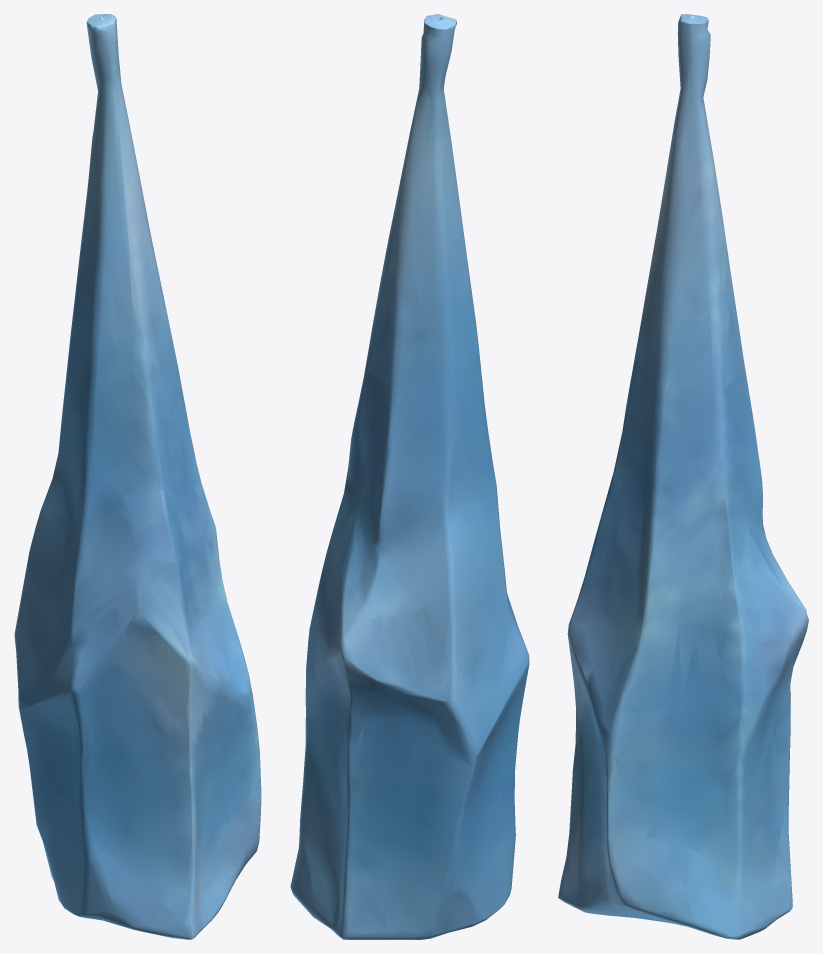
Rendered from pincho_escarcha_1_2500.glb.
The picture shows the model from 3 angles, left to right: view 1: azimuth 30°, elevation 25°; view 2: azimuth 150°, elevation 25°; view 3: azimuth 270°, elevation 25°; orthographic projection. The views are drawn at different scales.
Parts seen in each view (by area): view 1: pincho_escarcha_1_malla; view 2: pincho_escarcha_1_malla; view 3: pincho_escarcha_1_malla.
Boxes of the visible parts, x1,y1,x2,y2 form: pincho_escarcha_1_malla: [14, 14, 261, 939]; pincho_escarcha_1_malla: [290, 14, 529, 939]; pincho_escarcha_1_malla: [558, 14, 808, 939].
Size of the model in its own units: 0.0384 by 0.1707 by 0.0443.
1 material, 1 textured.
